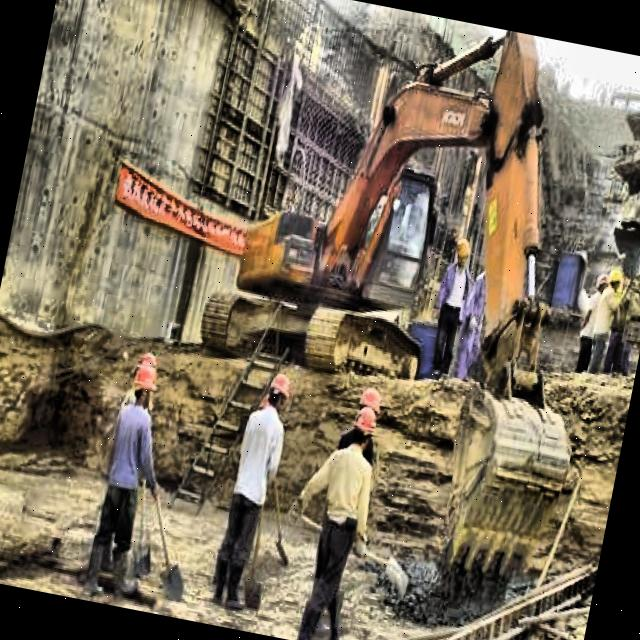helmet: (346, 403, 381, 453), (128, 366, 162, 414), (264, 366, 296, 414), (452, 236, 478, 274), (606, 262, 630, 299)
